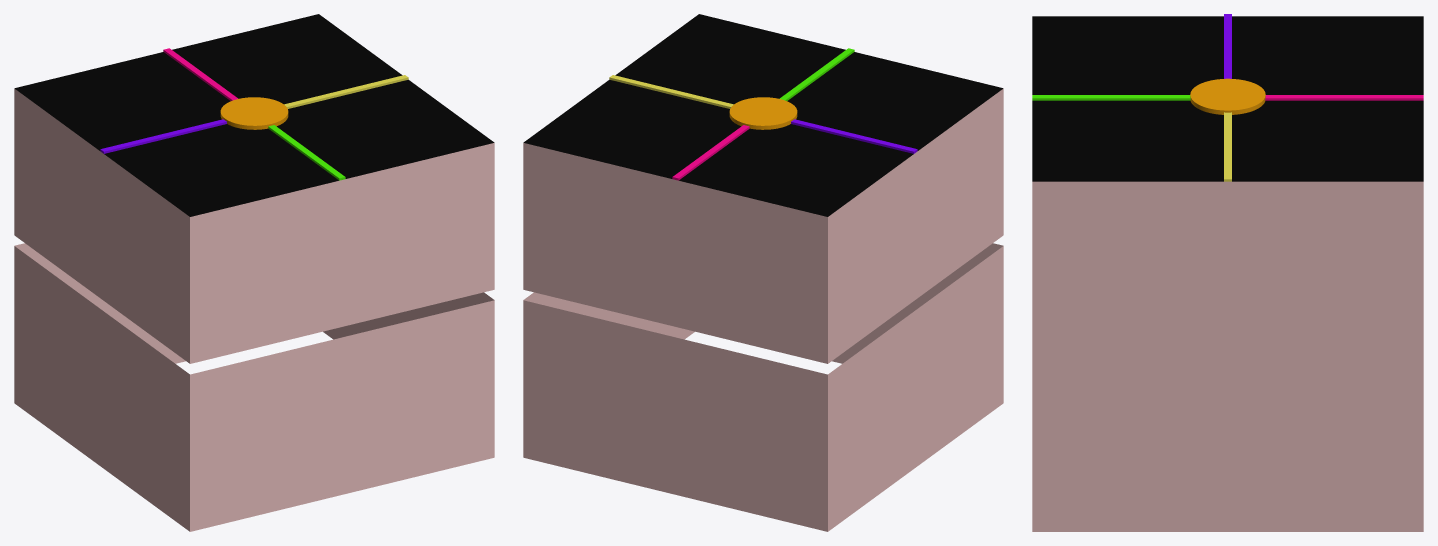
Rendered from PlatformTop.fbx.
3 renders of one model, left to right at view 1: azimuth 30°, elevation 25°; view 2: azimuth 150°, elevation 25°; view 3: azimuth 270°, elevation 25°, orthographic. The views are drawn at different scales.
Parts seen in each view (by area): view 1: Platform_Top; view 2: Platform_Top; view 3: Platform_Top.
Boxes of the visible parts, <box> form: Platform_Top: <box>14,14,494,531</box>; Platform_Top: <box>523,14,1003,531</box>; Platform_Top: <box>1032,14,1423,531</box>.
Size of the model in its own units: 0.9998 by 1 by 0.9999.
